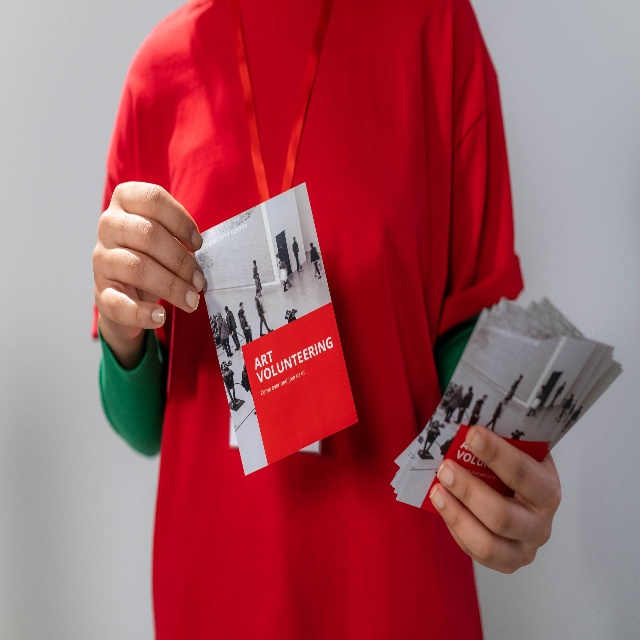Sin_guantes: (427, 422, 564, 574), (91, 180, 205, 331)
